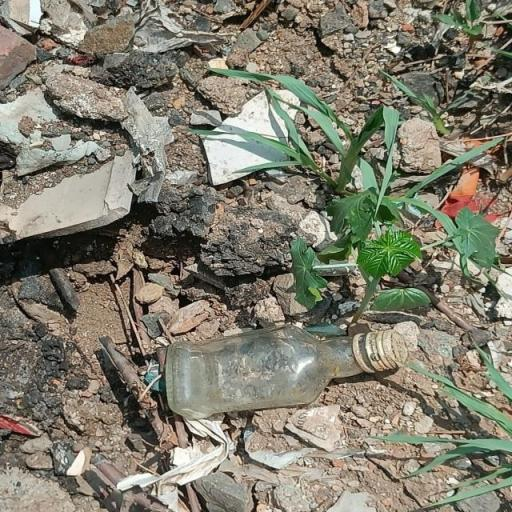glass: (162, 323, 394, 416)
